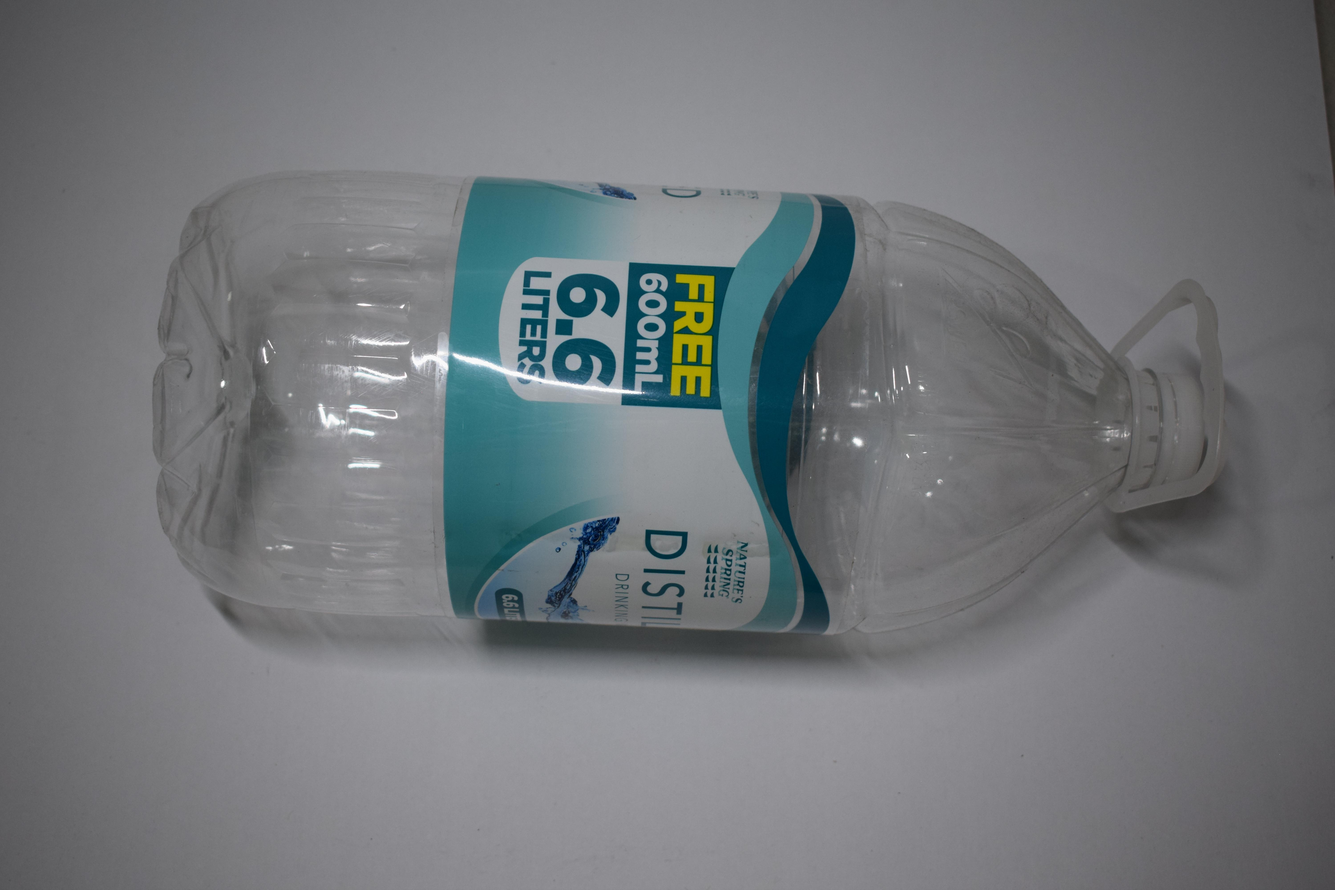plastic: (149, 173, 1236, 656)
